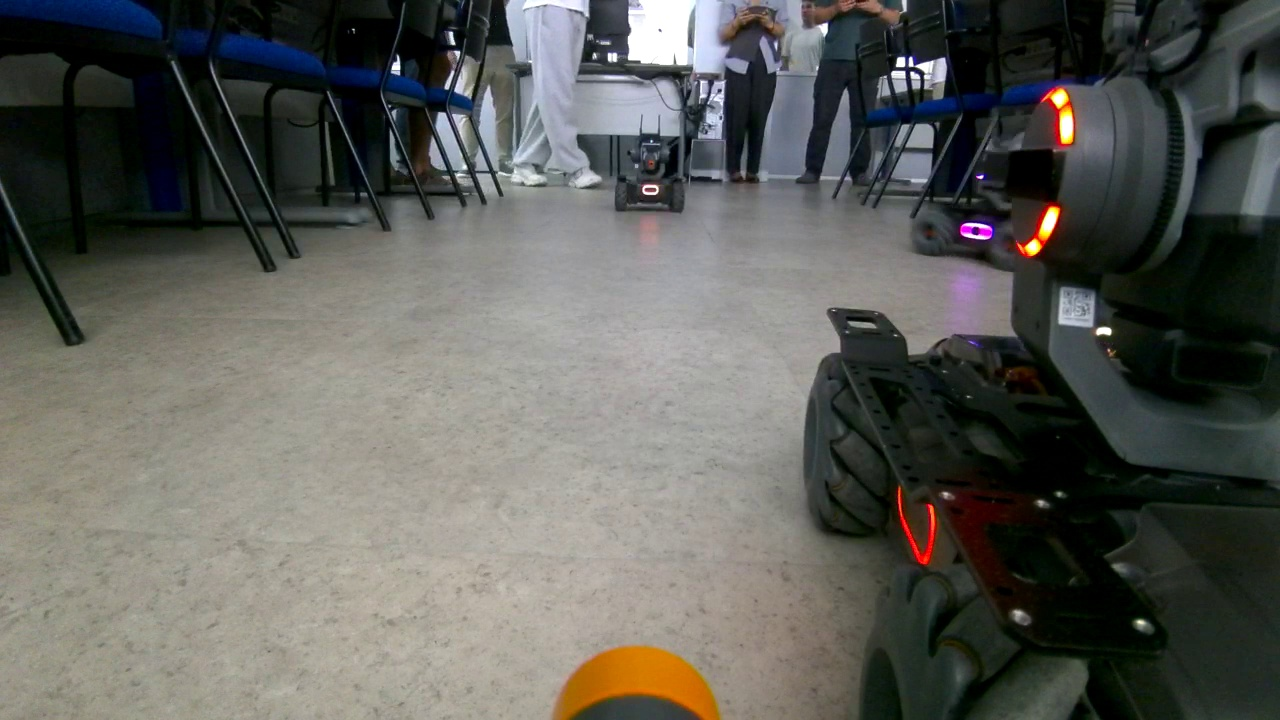robot: (799, 2, 1280, 720), (610, 109, 694, 213)
